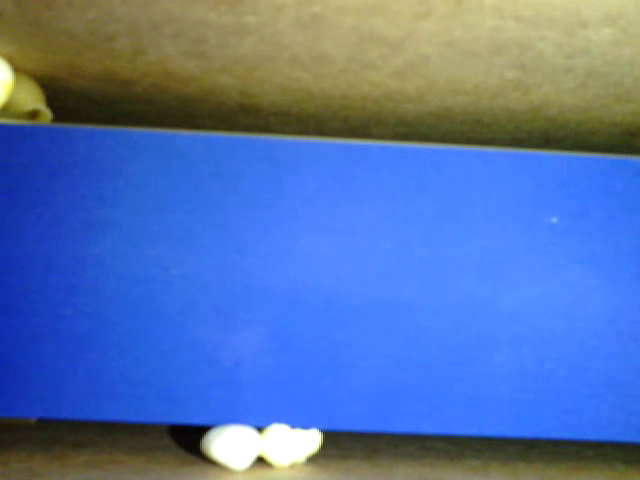shell: (1, 66, 54, 127)
